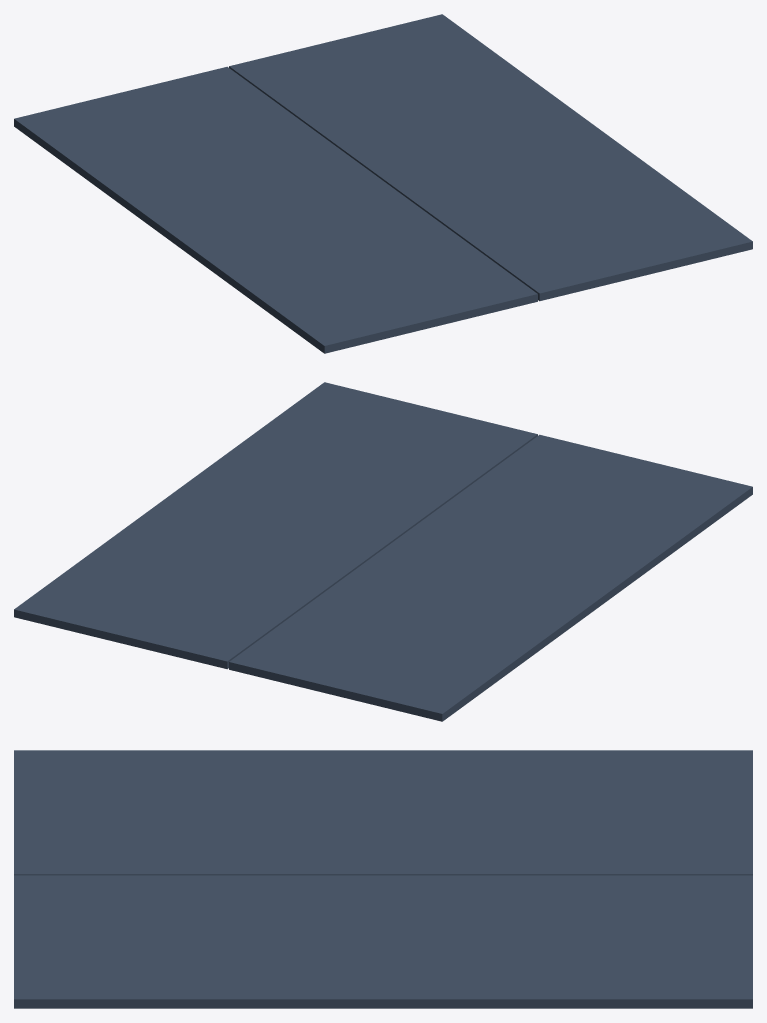
The model's file is ak1_doors.obj.
3 renders of one model, top to bottom at view 1: azimuth 30°, elevation 25°; view 2: azimuth 150°, elevation 25°; view 3: azimuth 270°, elevation 25°, orthographic. The views are drawn at different scales.
Parts seen in each view (by area): view 1: ak1_doors; view 2: ak1_doors; view 3: ak1_doors.
Part boxes in pixels (x1=…): ak1_doors: x1=14, y1=14, x2=752, y2=353; ak1_doors: x1=14, y1=382, x2=752, y2=721; ak1_doors: x1=14, y1=750, x2=752, y2=1008.
Bounding box in the file's own units: 4.61 × 0.08 × 5.78.
